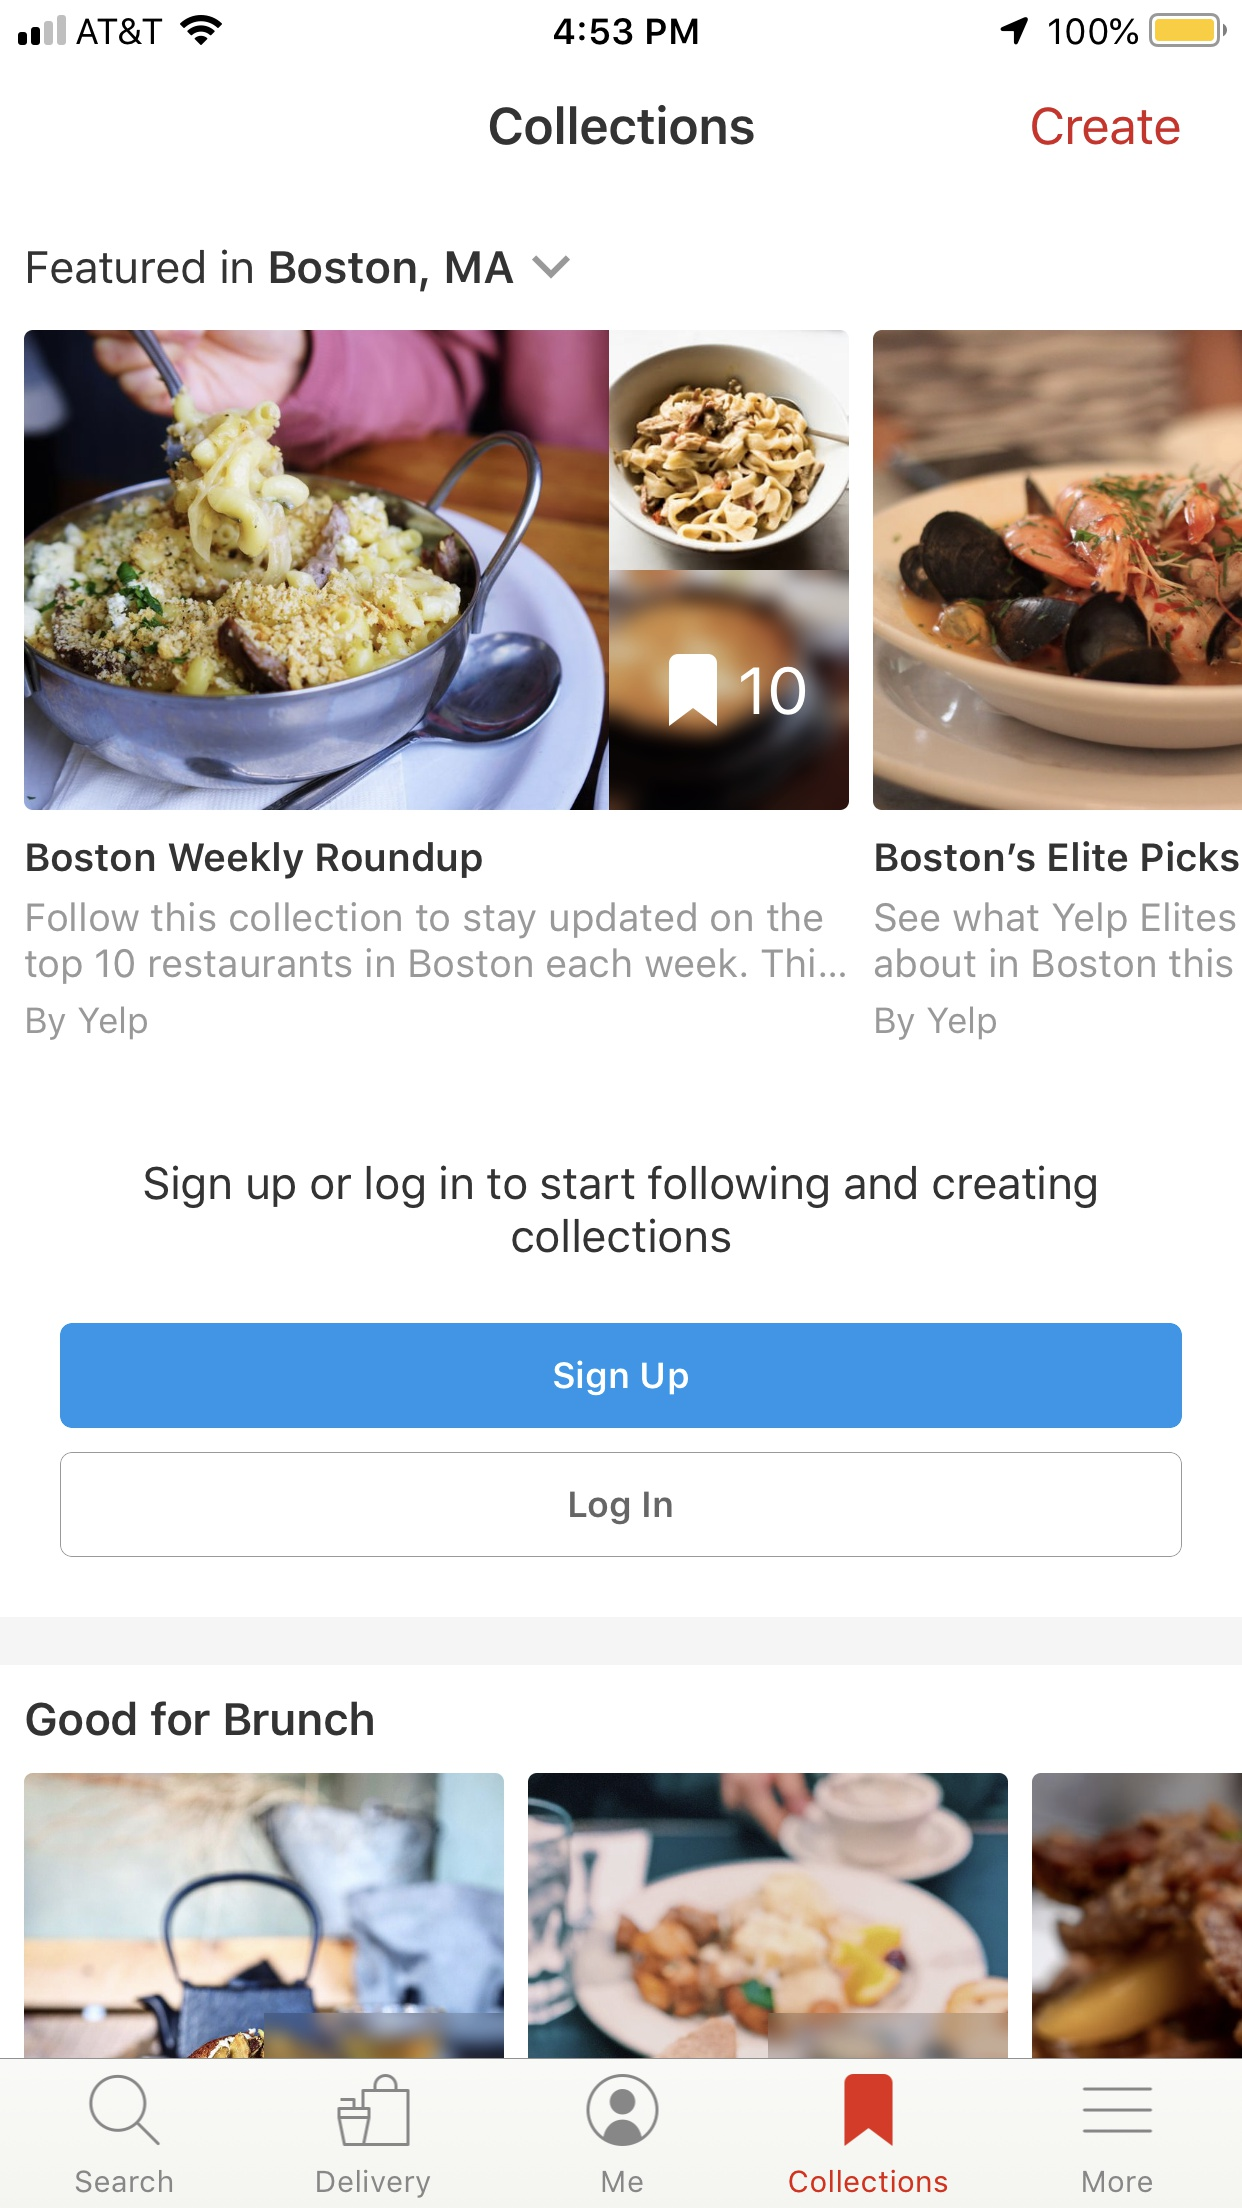Icon: (337, 2073, 411, 2147), (89, 2075, 162, 2147), (587, 2073, 660, 2146), (667, 654, 719, 729), (845, 2073, 895, 2147), (1081, 2085, 1154, 2134), (532, 255, 572, 281)
Image: (24, 331, 851, 811), (873, 331, 1242, 811), (24, 1771, 505, 2058), (528, 1771, 1008, 2058), (1031, 1771, 1242, 2058)
Text: (24, 901, 848, 1042), (144, 1165, 1096, 1254), (873, 902, 1240, 1042), (27, 249, 517, 293), (27, 842, 484, 880), (27, 1700, 375, 1736), (875, 842, 1242, 873), (490, 105, 755, 147), (1031, 106, 1181, 146), (789, 2169, 948, 2193), (317, 2169, 432, 2199), (740, 666, 807, 717), (76, 2169, 174, 2194), (1081, 2169, 1153, 2193), (602, 2169, 645, 2193)
TextButton: (61, 1451, 1183, 1557), (61, 1322, 1181, 1429)
UpperTaskBar: (2, 2, 1242, 49)
